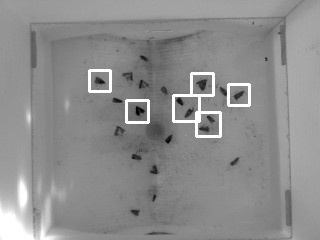insect: (232, 87, 247, 101), (112, 123, 127, 137), (195, 77, 208, 92), (120, 70, 135, 82), (93, 75, 108, 86), (217, 84, 229, 97), (133, 103, 145, 116), (148, 163, 160, 175), (137, 78, 150, 89), (183, 106, 194, 119), (205, 113, 216, 125), (229, 155, 240, 166), (159, 84, 169, 96), (128, 207, 140, 217), (197, 124, 210, 133), (130, 152, 143, 161), (138, 53, 149, 63), (110, 95, 123, 103), (174, 96, 184, 106), (164, 133, 173, 144), (150, 193, 157, 203)
